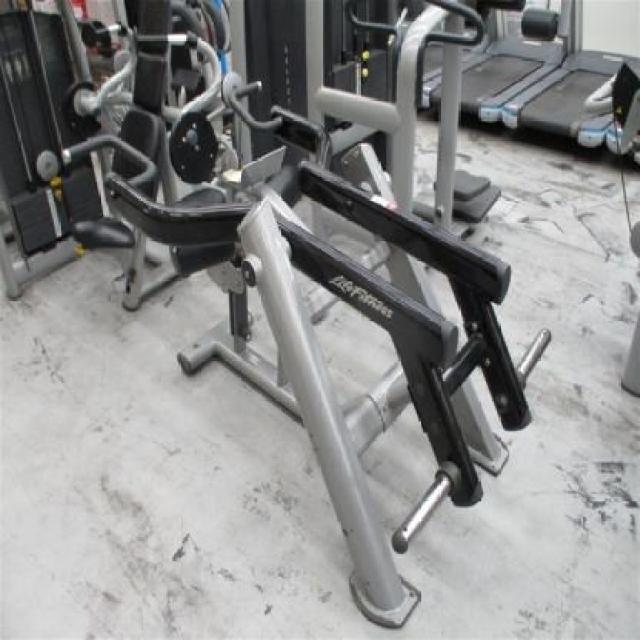seated dip machine: (64, 83, 554, 628)
